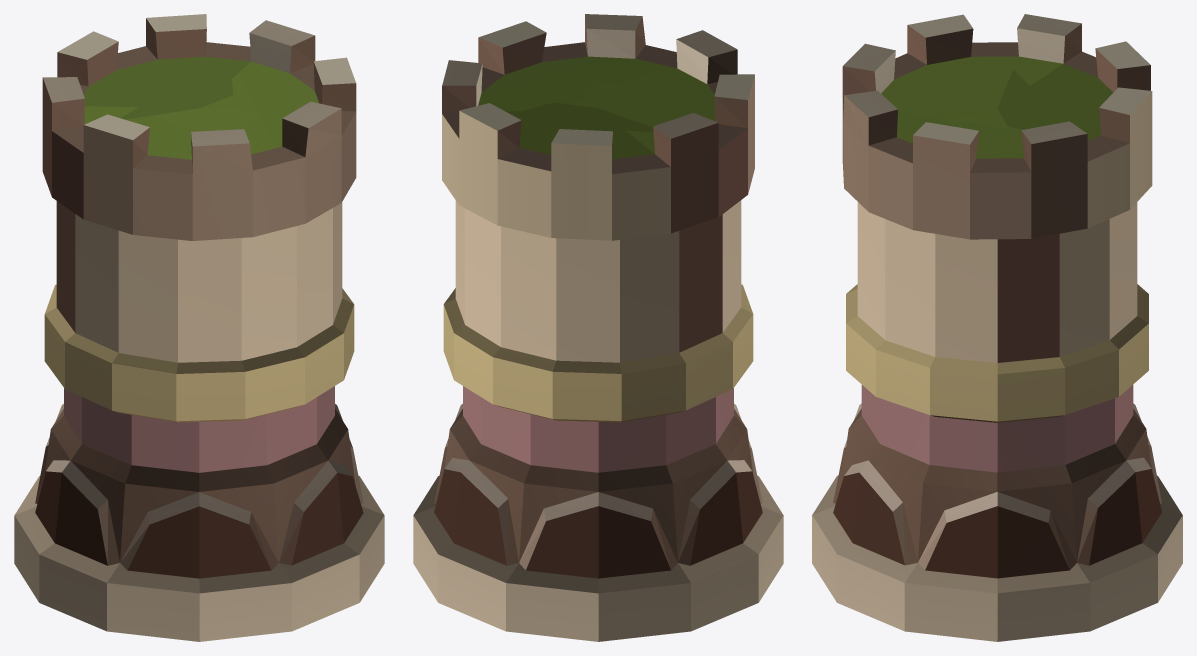
File: castle08.fbx
The picture shows the model from 3 angles, left to right: view 1: azimuth 30°, elevation 25°; view 2: azimuth 150°, elevation 25°; view 3: azimuth 270°, elevation 25°; orthographic projection.
Visible parts, largest first — view 1: castle08; view 2: castle08; view 3: castle08.
Boxes of the visible parts, x1=… form: castle08: x1=14, y1=14, x2=384, y2=641; castle08: x1=413, y1=14, x2=783, y2=641; castle08: x1=812, y1=14, x2=1182, y2=641.
Size of the model in its own units: 1.86 by 2.68 by 1.86.
Materials: 1 (1 with a texture image).
